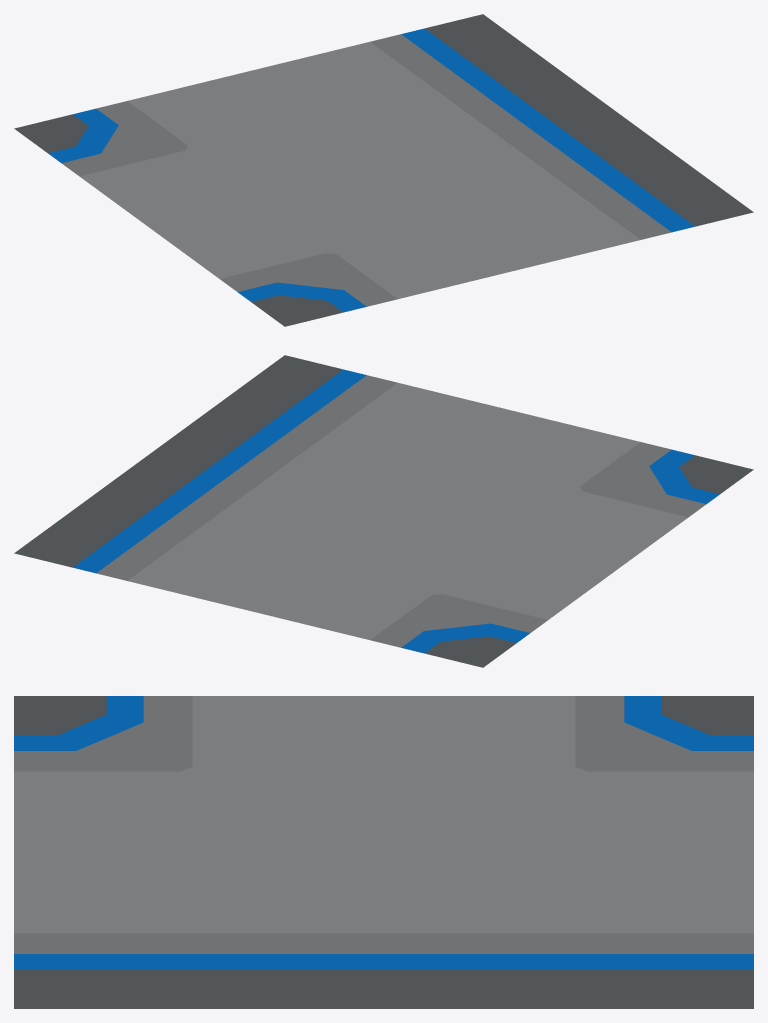
Rendered from Ceiling_type_B_026.004.fbx.
The picture shows the model from 3 angles, top to bottom: view 1: azimuth 30°, elevation 25°; view 2: azimuth 150°, elevation 25°; view 3: azimuth 270°, elevation 25°; orthographic projection. The views are drawn at different scales.
Visible parts, largest first — view 1: Ceiling_type_B_026.004; view 2: Ceiling_type_B_026.004; view 3: Ceiling_type_B_026.004.
Part boxes in pixels (x1,y1,x2,y2): Ceiling_type_B_026.004: [14, 14, 753, 326]; Ceiling_type_B_026.004: [14, 355, 753, 667]; Ceiling_type_B_026.004: [14, 696, 753, 1008].
Bounding box in the file's own units: 400 × 400 × 6.18.
